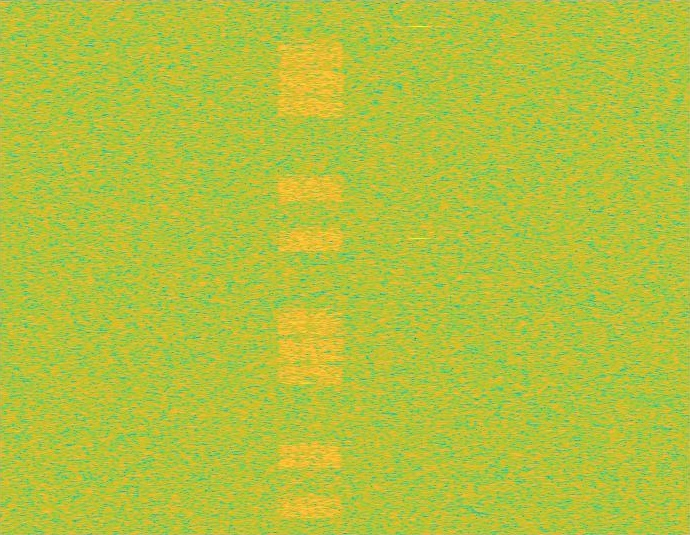LTE: (276, 0, 345, 534)
Radar: (412, 0, 426, 534)
